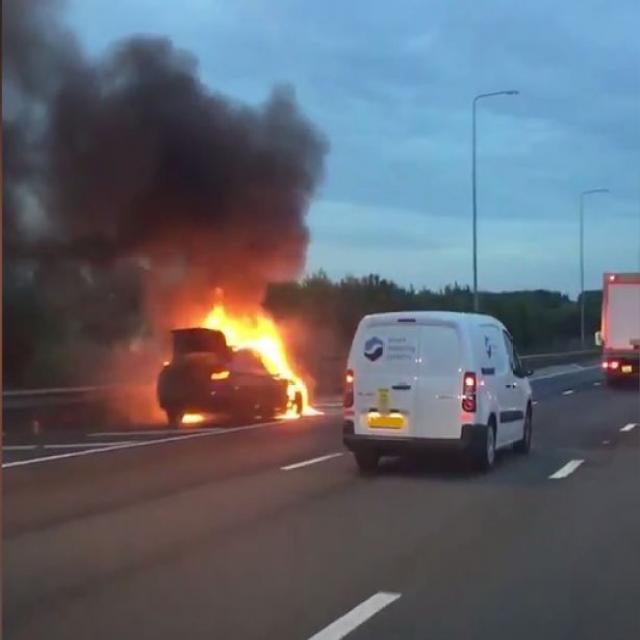Fire: (206, 295, 318, 422)
